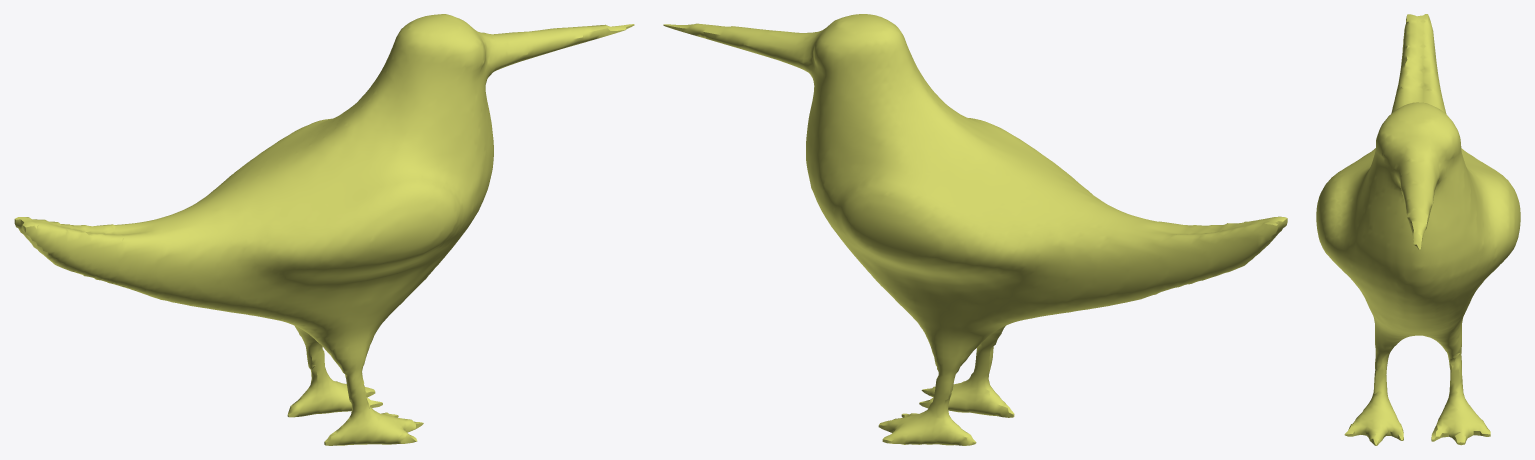
3 views of the same model, side by side, from view 1: azimuth 30°, elevation 25°; view 2: azimuth 150°, elevation 25°; view 3: azimuth 270°, elevation 25° (orthographic). The views are drawn at different scales.
Visible parts, largest first — view 1: split_parent_0; view 2: split_parent_0; view 3: split_parent_0.
Part boxes in pixels (x1,y1,x2,y2): split_parent_0: (14, 14, 634, 445); split_parent_0: (663, 14, 1287, 445); split_parent_0: (1316, 14, 1520, 445).
Size of the model in its own units: 1 by 0.5949 by 0.3088.
